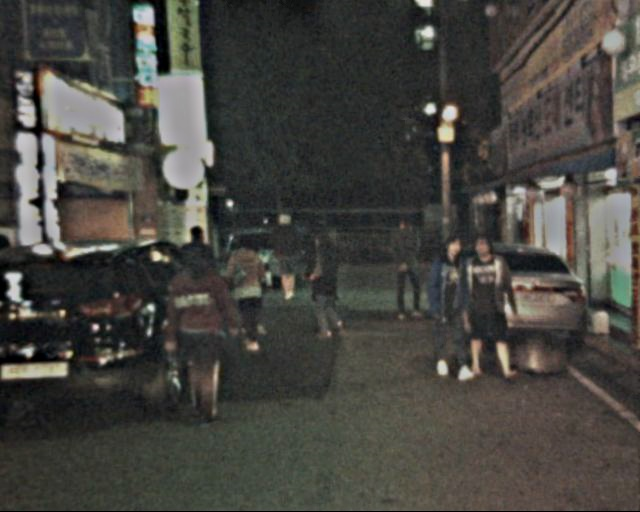person: (166, 250, 235, 413), (457, 233, 520, 377), (425, 235, 483, 379), (226, 236, 274, 353), (172, 225, 222, 334), (305, 232, 349, 336), (384, 218, 428, 320), (270, 212, 305, 297)
